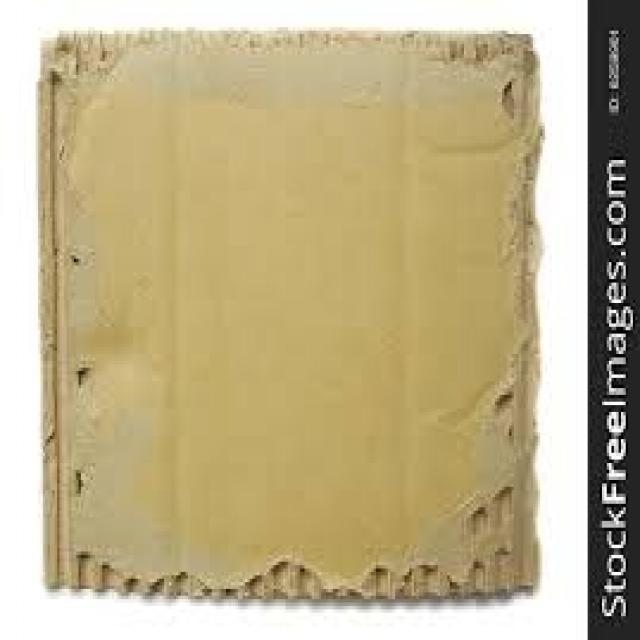cardboard paper: (39, 29, 538, 596)
